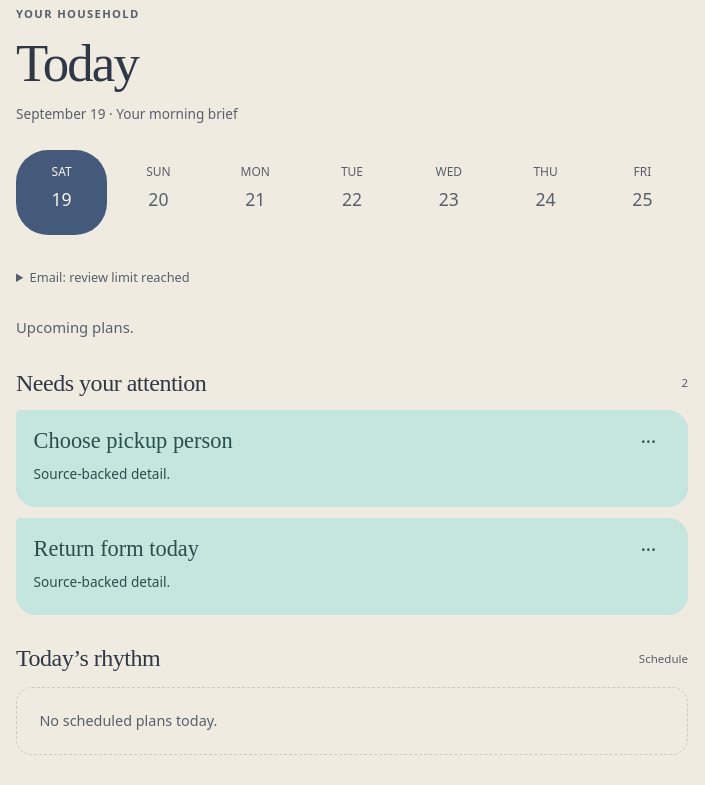
Test: keeps important future commitments on the horizon and explains review limits separately from actions
Expected: the heading "Choose pickup person" is shown, [34,428,233,453]
Expected: the heading "Return form today" is shown, [34,536,199,561]
Click the heading "Email: review limit reached".
click(110, 277)  # box [30,268,190,286]
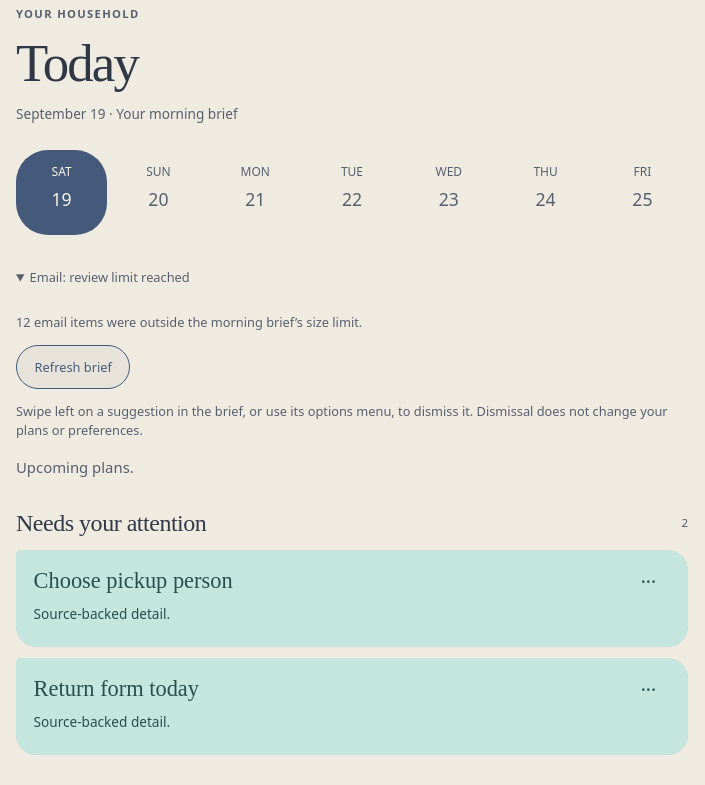
Expected: the text "12 email items were outside the morning brief’s size limit." is shown, [16,313,362,331]
